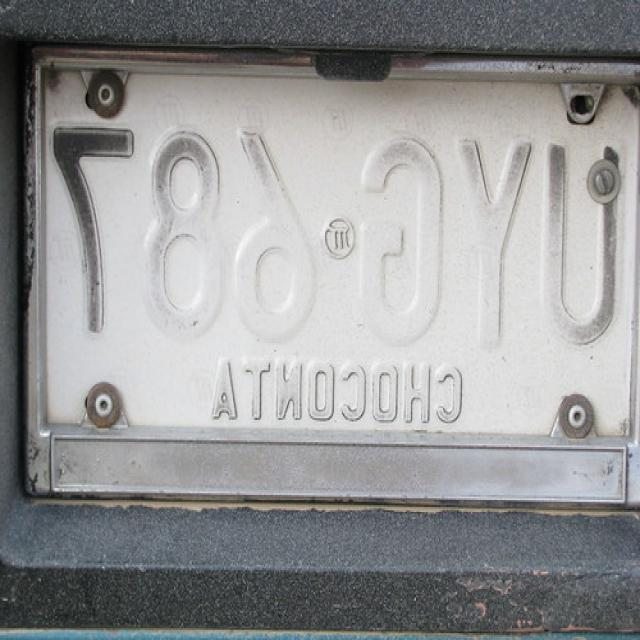placas: (41, 52, 633, 356)
